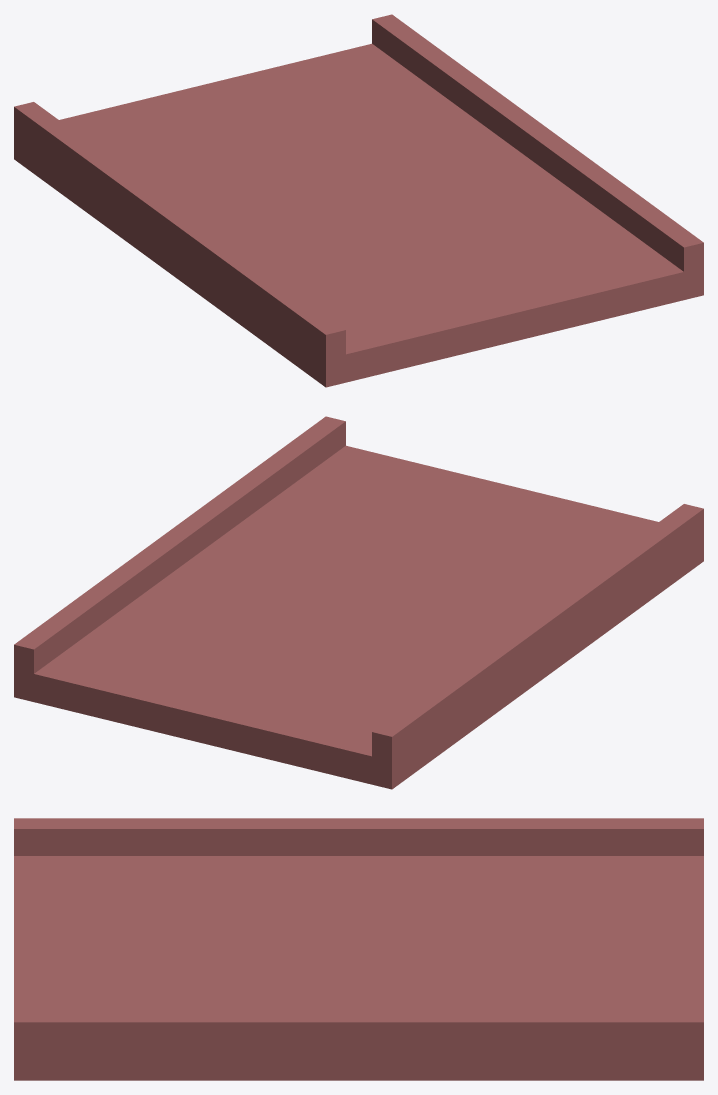
Rendered from board no walls.fbx.
3 views of the same model, one above another, from view 1: azimuth 30°, elevation 25°; view 2: azimuth 150°, elevation 25°; view 3: azimuth 270°, elevation 25° (orthographic). The views are drawn at different scales.
Visible parts, largest first — view 1: pCube1; view 2: pCube1; view 3: pCube1.
Boxes of the visible parts, x1,y1,x2,y2 form: pCube1: (14,14,703,387); pCube1: (14,416,703,789); pCube1: (14,818,703,1080).
Bounding box in the file's own units: 14 × 1.86 × 20.
